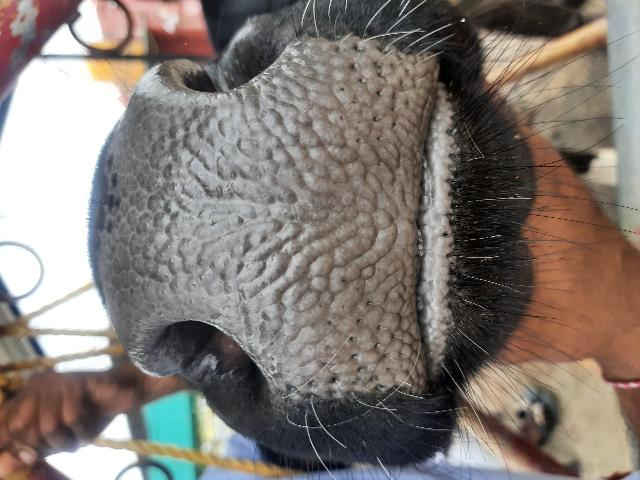Muzzle: (127, 114, 413, 324)
